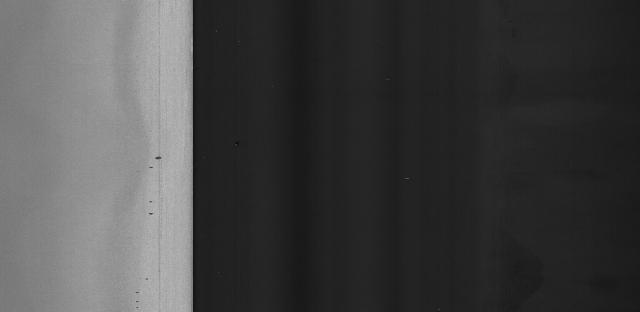oil_spot: (149, 142, 167, 172), (142, 207, 165, 222)
